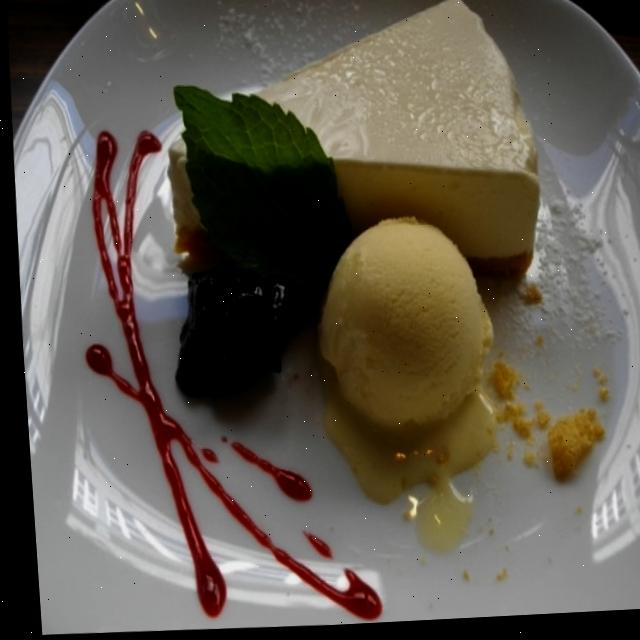蛋糕甜品: (9, 0, 640, 595)
